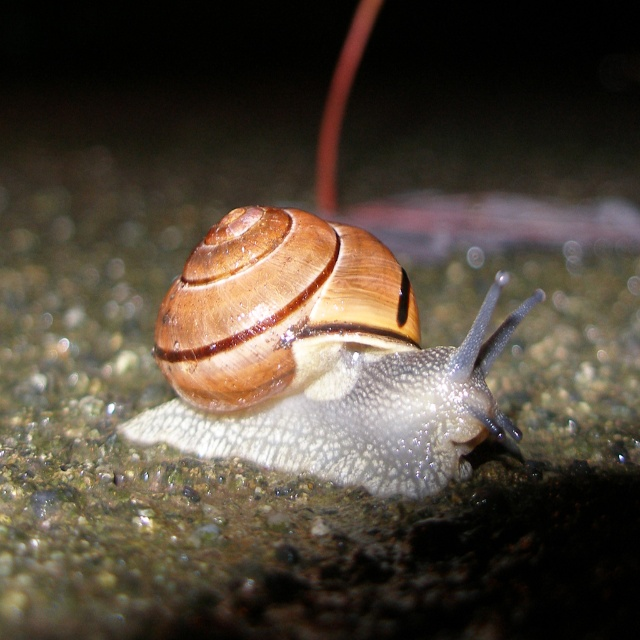Snail: (108, 200, 548, 502)
